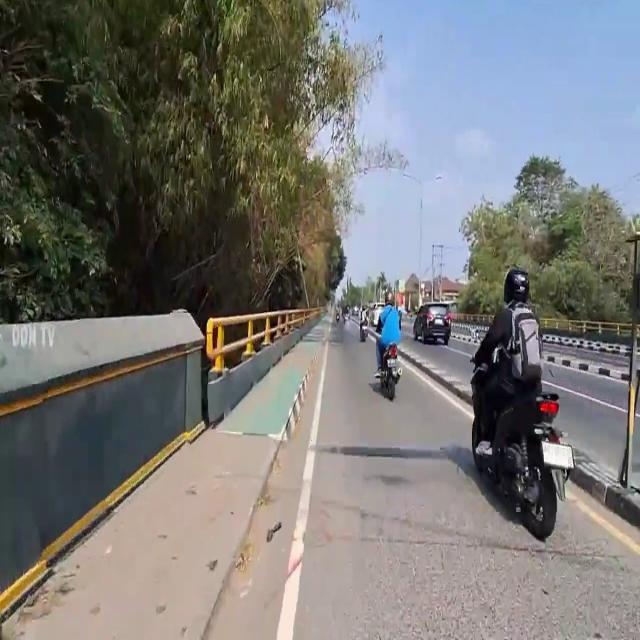WithHelmet: (471, 265, 543, 457), (374, 291, 402, 379), (359, 306, 368, 329)
